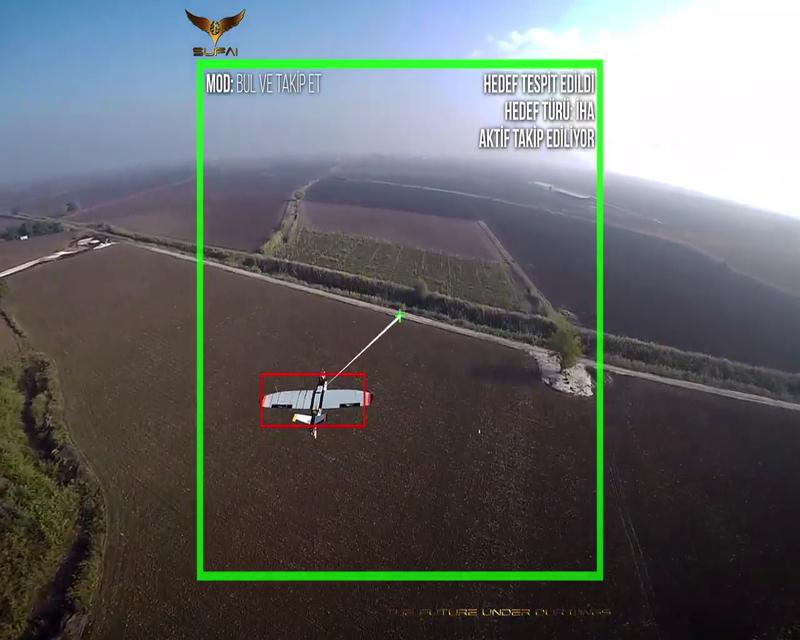UAV: (260, 374, 373, 437)
